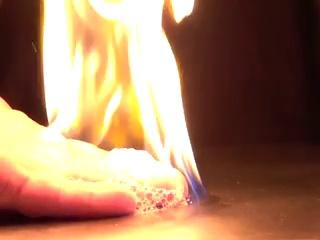Fire: (39, 1, 206, 195)
